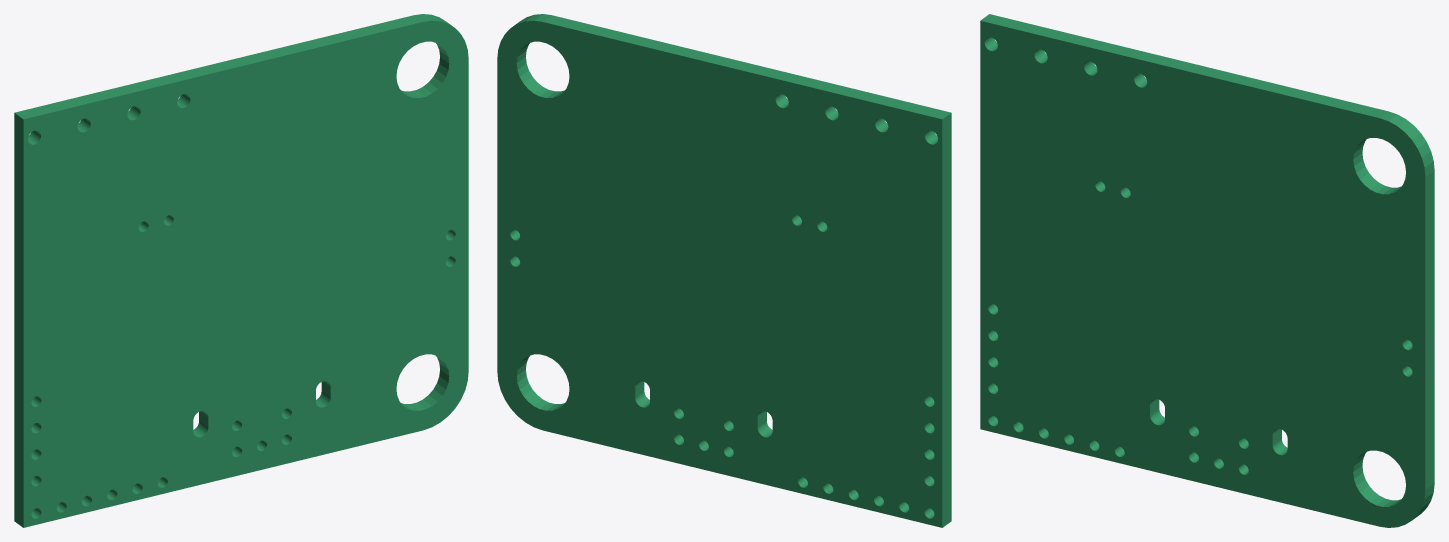
The model's file is pawelder_logic_3d_board.obj.
3 views of the same model, side by side, from view 1: azimuth 30°, elevation 25°; view 2: azimuth 150°, elevation 25°; view 3: azimuth 330°, elevation 25° (orthographic).
Visible parts, largest first — view 1: Pcb; view 2: Pcb; view 3: Pcb.
Boxes of the visible parts, x1=… form: Pcb: x1=14, y1=14, x2=468, y2=527; Pcb: x1=497, y1=14, x2=951, y2=527; Pcb: x1=980, y1=14, x2=1434, y2=527.
Size of the model in its own units: 44.7 by 39.2 by 1.6.
